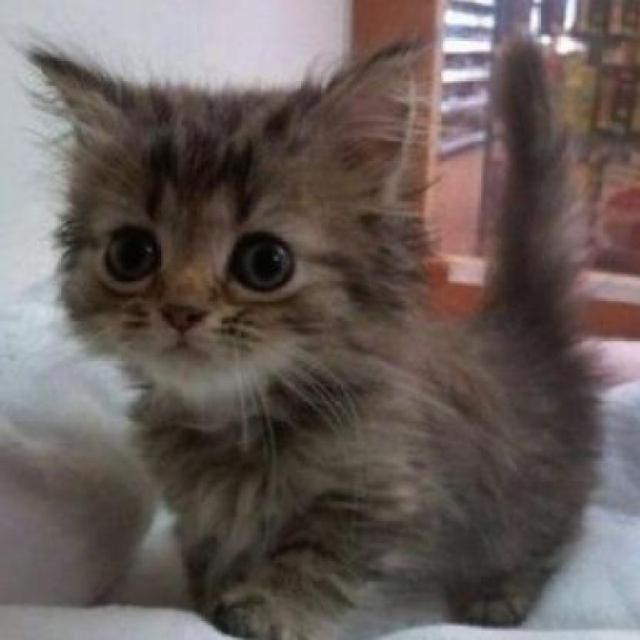cat: (23, 20, 588, 640)
